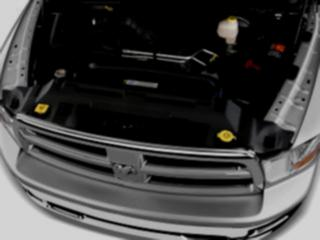ram: (108, 160, 142, 179)
